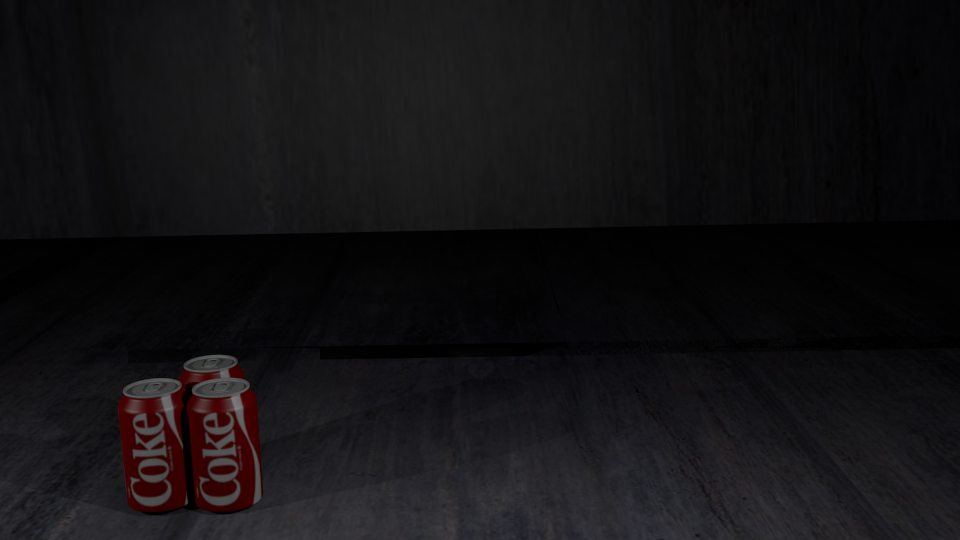cola_can: (118, 378, 191, 508), (187, 378, 259, 507), (179, 355, 243, 477)
